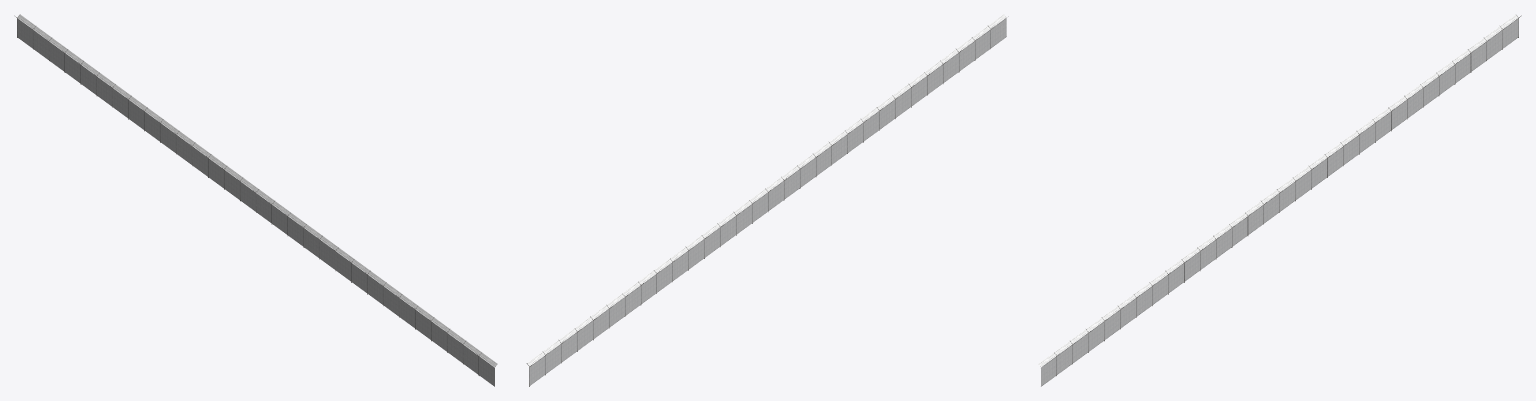
File: smallwall.glb
3 renders of one model, left to right at view 1: azimuth 30°, elevation 25°; view 2: azimuth 150°, elevation 25°; view 3: azimuth 330°, elevation 25°, orthographic.
Visible parts, largest first — view 1: fence_small175_fences_atlas_0; view 2: fence_small175_fences_atlas_0; view 3: fence_small175_fences_atlas_0.
Part boxes in pixels (left/top/right/bottom): fence_small175_fences_atlas_0: left=14, top=14, right=497, bottom=386; fence_small175_fences_atlas_0: left=526, top=14, right=1008, bottom=386; fence_small175_fences_atlas_0: left=1038, top=14, right=1521, bottom=386.
Bounding box in the file's own units: 0.9032 × 3.23 × 120.
Materials: 1 (1 with a texture image).
